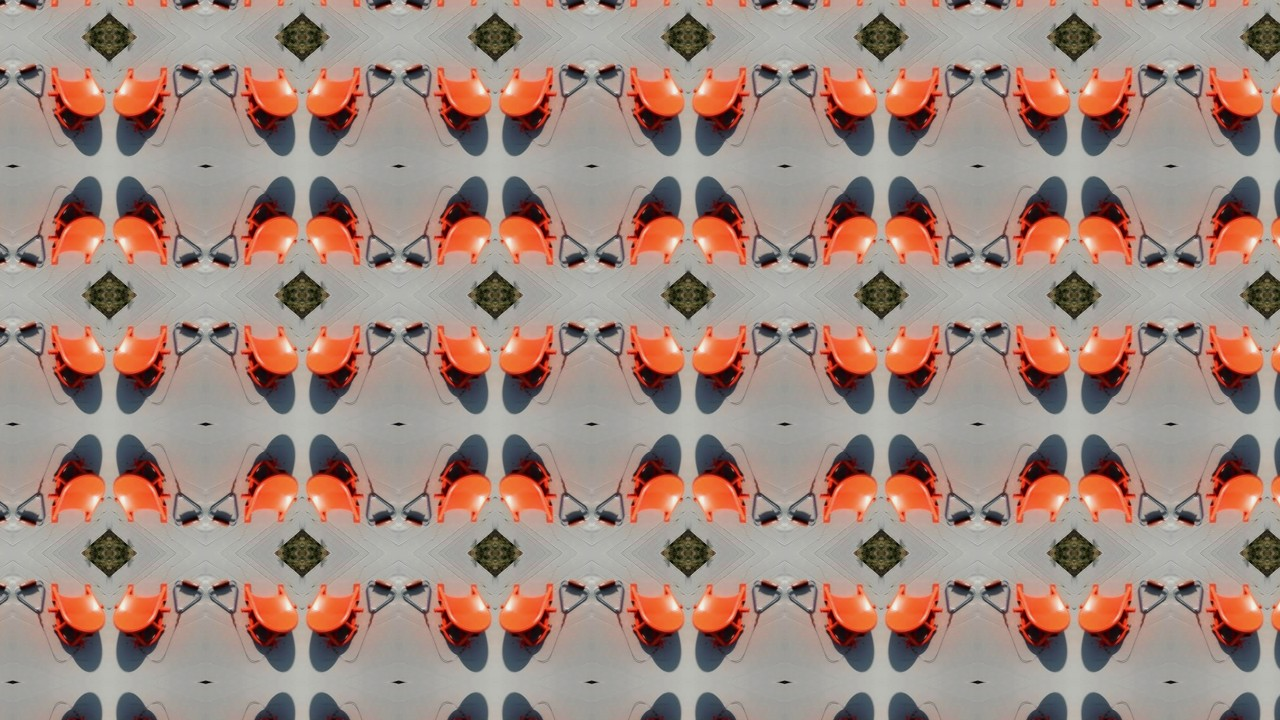chock: (45, 64, 102, 131), (111, 64, 168, 131), (239, 64, 296, 131), (305, 64, 362, 131), (433, 64, 490, 131), (499, 64, 556, 131), (627, 64, 684, 131), (693, 64, 750, 131), (821, 64, 878, 131), (887, 64, 944, 131), (1015, 64, 1072, 131), (1081, 64, 1138, 131), (1209, 64, 1266, 131), (45, 200, 102, 267), (111, 200, 168, 267), (239, 200, 296, 267), (305, 200, 362, 267), (433, 200, 490, 267), (499, 200, 556, 267), (627, 200, 684, 267), (693, 200, 750, 267), (821, 200, 878, 267), (887, 200, 944, 267), (1015, 200, 1072, 267), (1081, 200, 1138, 267), (1209, 200, 1266, 267), (45, 323, 102, 390), (111, 323, 168, 390), (239, 323, 296, 390), (305, 323, 362, 390), (433, 323, 490, 390), (499, 323, 556, 390), (627, 323, 684, 390), (693, 323, 750, 390), (821, 323, 878, 390), (887, 323, 944, 390), (1015, 323, 1072, 390), (1081, 323, 1138, 390), (1209, 323, 1266, 390), (45, 459, 102, 526), (111, 459, 168, 526), (239, 459, 296, 526), (305, 459, 362, 526), (433, 459, 490, 526), (499, 459, 556, 526), (627, 459, 684, 526), (693, 459, 750, 526), (821, 459, 878, 526), (887, 459, 944, 526), (1015, 459, 1072, 526), (1081, 459, 1138, 526), (1209, 459, 1266, 526), (45, 582, 102, 649), (111, 582, 168, 649), (239, 582, 296, 649), (305, 582, 362, 649), (433, 582, 490, 649), (499, 582, 556, 649), (627, 582, 684, 649), (693, 582, 750, 649), (821, 582, 878, 649), (887, 582, 944, 649), (1015, 582, 1072, 649), (1081, 582, 1138, 649), (1209, 582, 1266, 649), (45, 0, 102, 8), (111, 0, 168, 8), (239, 0, 296, 8), (305, 0, 362, 8), (433, 0, 490, 8), (499, 0, 556, 8), (627, 0, 684, 8), (693, 0, 750, 8), (821, 0, 878, 8), (887, 0, 944, 8), (1015, 0, 1072, 8), (1081, 0, 1138, 8), (1209, 0, 1266, 8)
